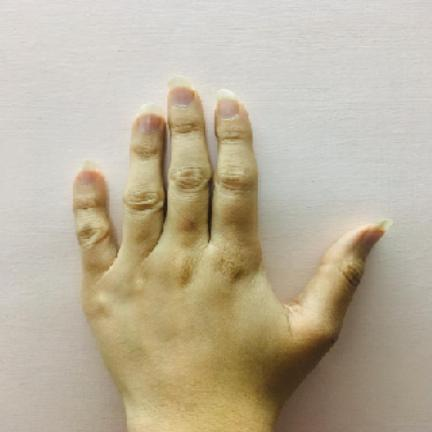Nail: (356, 219, 392, 256), (168, 77, 195, 106), (138, 104, 162, 133), (217, 89, 239, 118), (81, 159, 96, 184)
